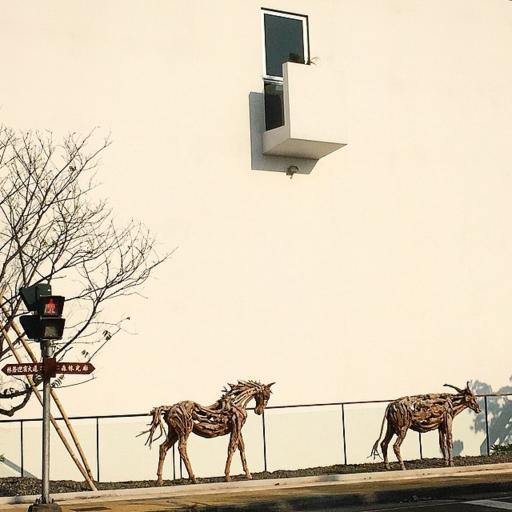horse: (132, 376, 277, 488)
